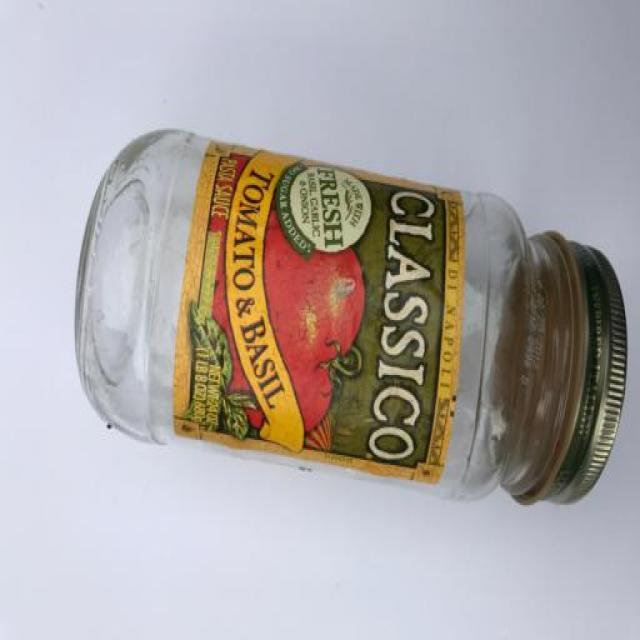glass: (47, 105, 640, 578)
